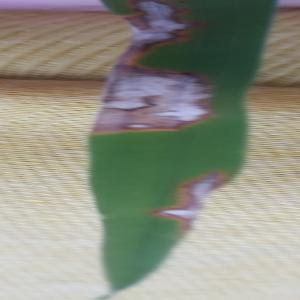1 RiceBlast: (83, 1, 209, 141), (150, 151, 232, 230), (105, 1, 189, 49)
